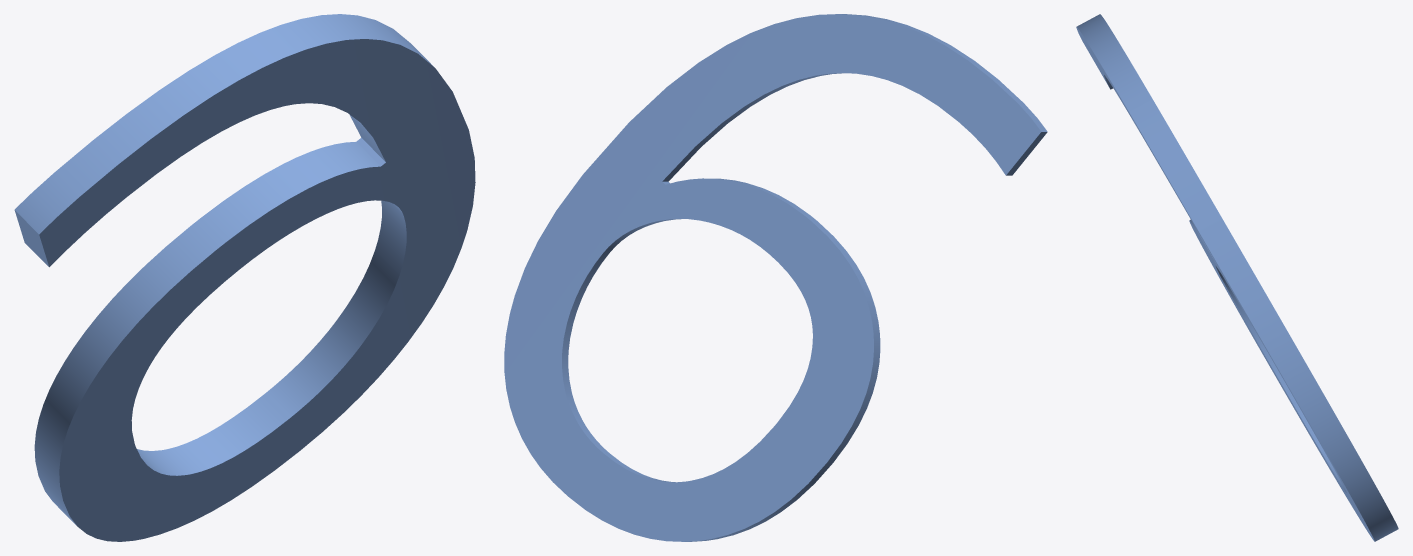
Rendered from New_Number_9.gltf.
The picture shows the model from 3 angles, left to right: view 1: azimuth 30°, elevation 25°; view 2: azimuth 150°, elevation 25°; view 3: azimuth 270°, elevation 25°; orthographic projection. The views are drawn at different scales.
Parts seen in each view (by area): view 1: Part 567; view 2: Part 567; view 3: Part 567.
Boxes of the visible parts, x1,y1,x2,y2 form: Part 567: (14, 14, 475, 541); Part 567: (504, 14, 1047, 541); Part 567: (1076, 14, 1398, 541).
Bounding box in the file's own units: 0.00458 × 0.00472 × 0.00304.
